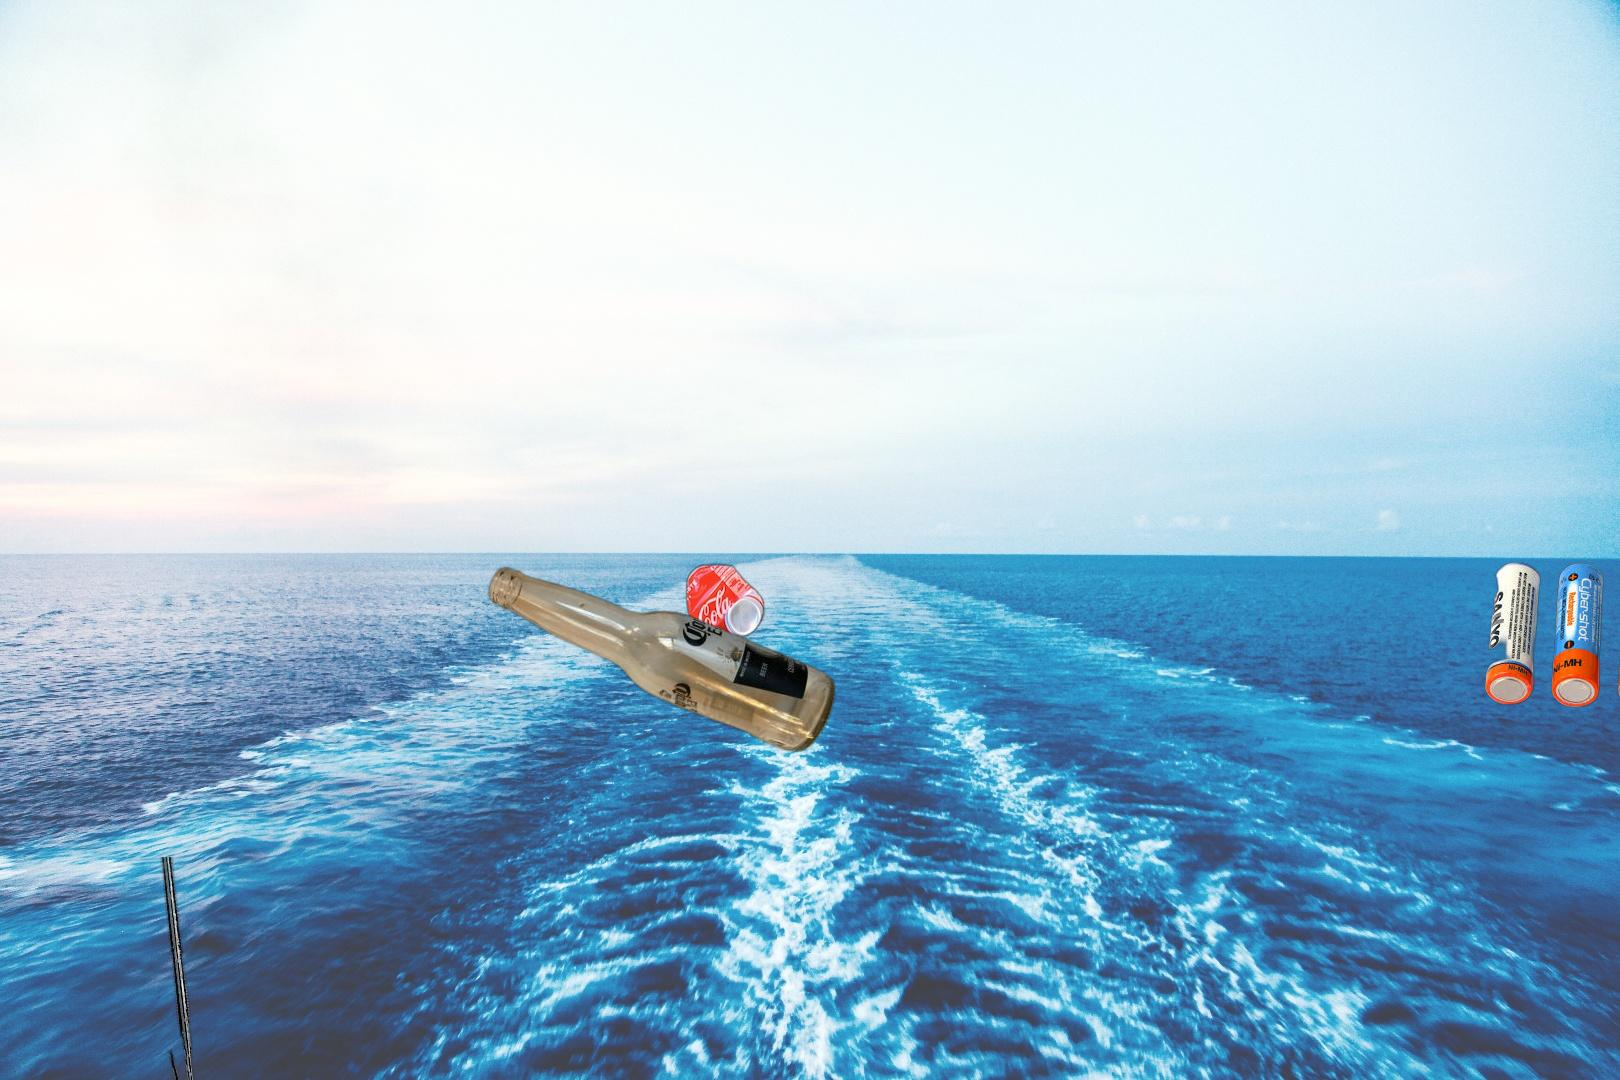battery: (1483, 559, 1620, 711)
glass: (485, 565, 840, 755)
metal-cans: (681, 558, 962, 764)
plastic-bottles: (82, 857, 271, 1080)
